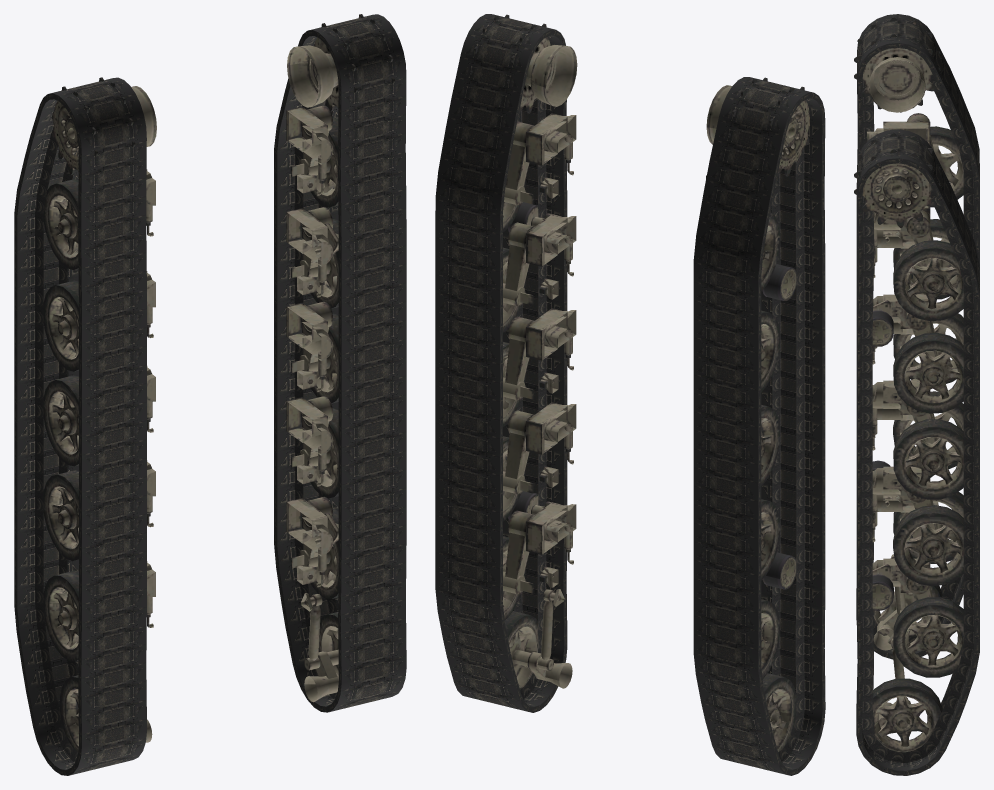
File: Chassis.glb
The picture shows the model from 3 angles, left to right: view 1: azimuth 30°, elevation 25°; view 2: azimuth 150°, elevation 25°; view 3: azimuth 270°, elevation 25°; orthographic projection. The views are drawn at different scales.
Parts seen in each view (by area): view 1: set_1_group_0, set_0_group_0, set_3_group_0, set_2_group_0; view 2: set_1_group_0, set_0_group_0, set_3_group_0, set_2_group_0; view 3: set_3_group_0, set_0_group_0, set_2_group_0, set_1_group_0.
Boxes of the visible parts, x1,y1,x2,y2 form: set_1_group_0: (14,77,146,775); set_0_group_0: (274,14,406,712); set_3_group_0: (286,14,394,702); set_2_group_0: (43,77,156,751); set_1_group_0: (693,77,825,775); set_0_group_0: (435,14,567,712); set_3_group_0: (470,14,577,689); set_2_group_0: (706,77,809,751); set_3_group_0: (854,132,963,752); set_0_group_0: (856,129,979,775); set_2_group_0: (854,17,963,650); set_1_group_0: (856,14,979,659).
Bounding box in the file's own units: 2.16 × 4.32 × 0.7955.
4 materials, 4 textured.
